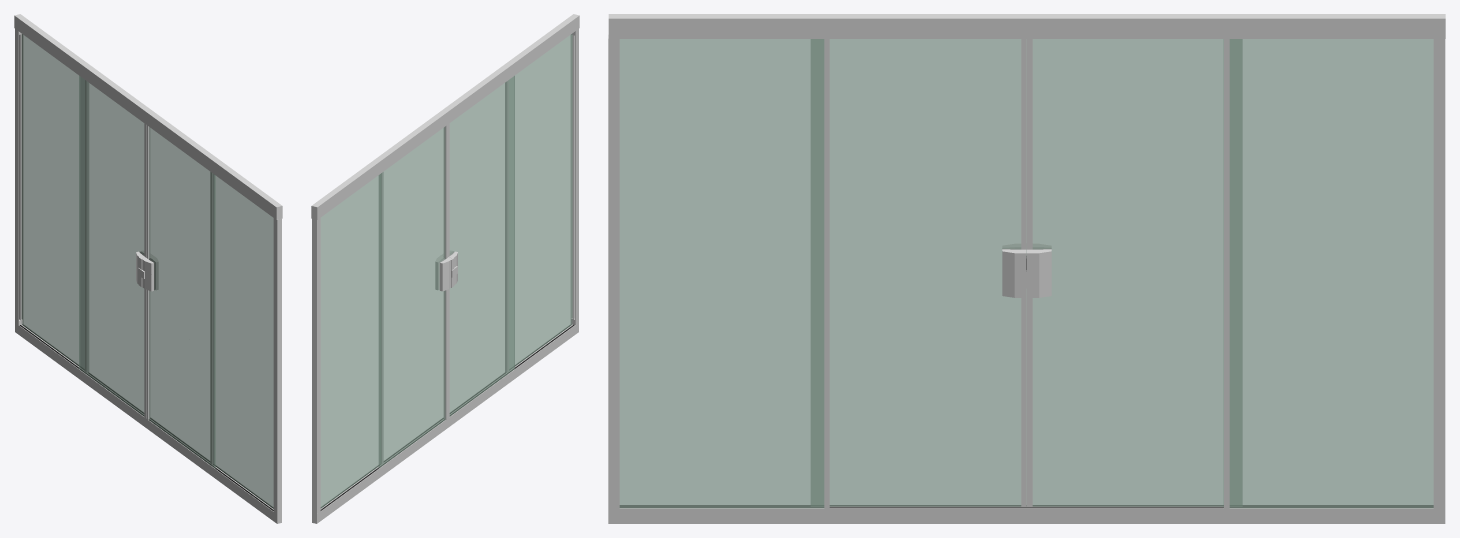
The model's file is windows.glb.
3 views of the same model, side by side, from view 1: azimuth 30°, elevation 25°; view 2: azimuth 150°, elevation 25°; view 3: azimuth 270°, elevation 25° (orthographic). The views are drawn at different scales.
Visible parts, largest first — view 1: Vidro 1.001; view 2: Vidro 1.001; view 3: Vidro 1.001.
Part boxes in pixels (x1=…): Vidro 1.001: x1=14, y1=14, x2=282, y2=523; Vidro 1.001: x1=311, y1=14, x2=579, y2=523; Vidro 1.001: x1=608, y1=14, x2=1445, y2=523.
Size of the model in its own units: 4.42 by 100 by 150.
3 materials, 2 textured.
